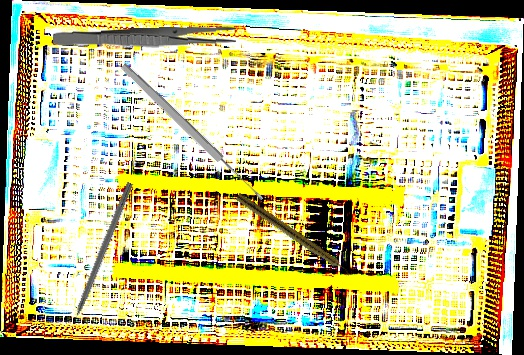Dressing Forceps: (52, 24, 237, 52)
Handpiece: (233, 192, 354, 279)
Hook Surgical: (65, 181, 134, 334)
Surgical Spoon: (119, 61, 266, 204)
